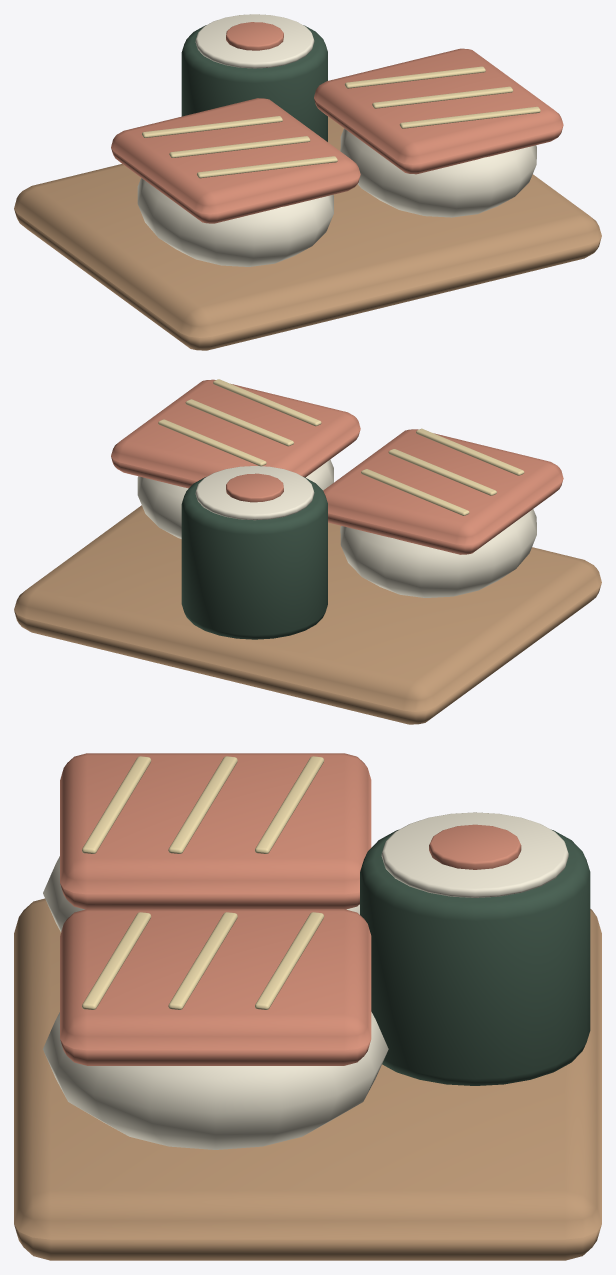
File: option-sushi.glb
The picture shows the model from 3 angles, top to bottom: view 1: azimuth 30°, elevation 25°; view 2: azimuth 150°, elevation 25°; view 3: azimuth 270°, elevation 25°; orthographic projection. The views are drawn at different scales.
Visible parts, largest first — view 1: Model_Sushi_Wood, Model_Sushi_Salmon, Model_Sushi_Rice, Model_Sushi_Nori, Model_Sushi_Bread; view 2: Model_Sushi_Wood, Model_Sushi_Salmon, Model_Sushi_Nori, Model_Sushi_Rice, Model_Sushi_Bread; view 3: Model_Sushi_Wood, Model_Sushi_Salmon, Model_Sushi_Nori, Model_Sushi_Rice, Model_Sushi_Bread.
Part boxes in pixels (box(x1,y1,x2,y2)): Model_Sushi_Wood: box(14, 116, 601, 350); Model_Sushi_Salmon: box(111, 22, 563, 223); Model_Sushi_Rice: box(137, 14, 536, 266); Model_Sushi_Nori: box(181, 25, 327, 141); Model_Sushi_Bread: box(142, 66, 540, 178); Model_Sushi_Wood: box(14, 505, 601, 724); Model_Sushi_Salmon: box(111, 379, 563, 554); Model_Sushi_Nori: box(181, 477, 327, 639); Model_Sushi_Rice: box(137, 459, 536, 597); Model_Sushi_Bread: box(158, 379, 524, 515); Model_Sushi_Wood: box(14, 898, 601, 1260); Model_Sushi_Salmon: box(60, 753, 521, 1065); Model_Sushi_Nori: box(360, 829, 590, 1085); Model_Sushi_Rice: box(43, 812, 568, 1149); Model_Sushi_Bread: box(82, 756, 324, 1009).
Bounding box in the file's own units: 0.66 × 0.2575 × 0.51.
